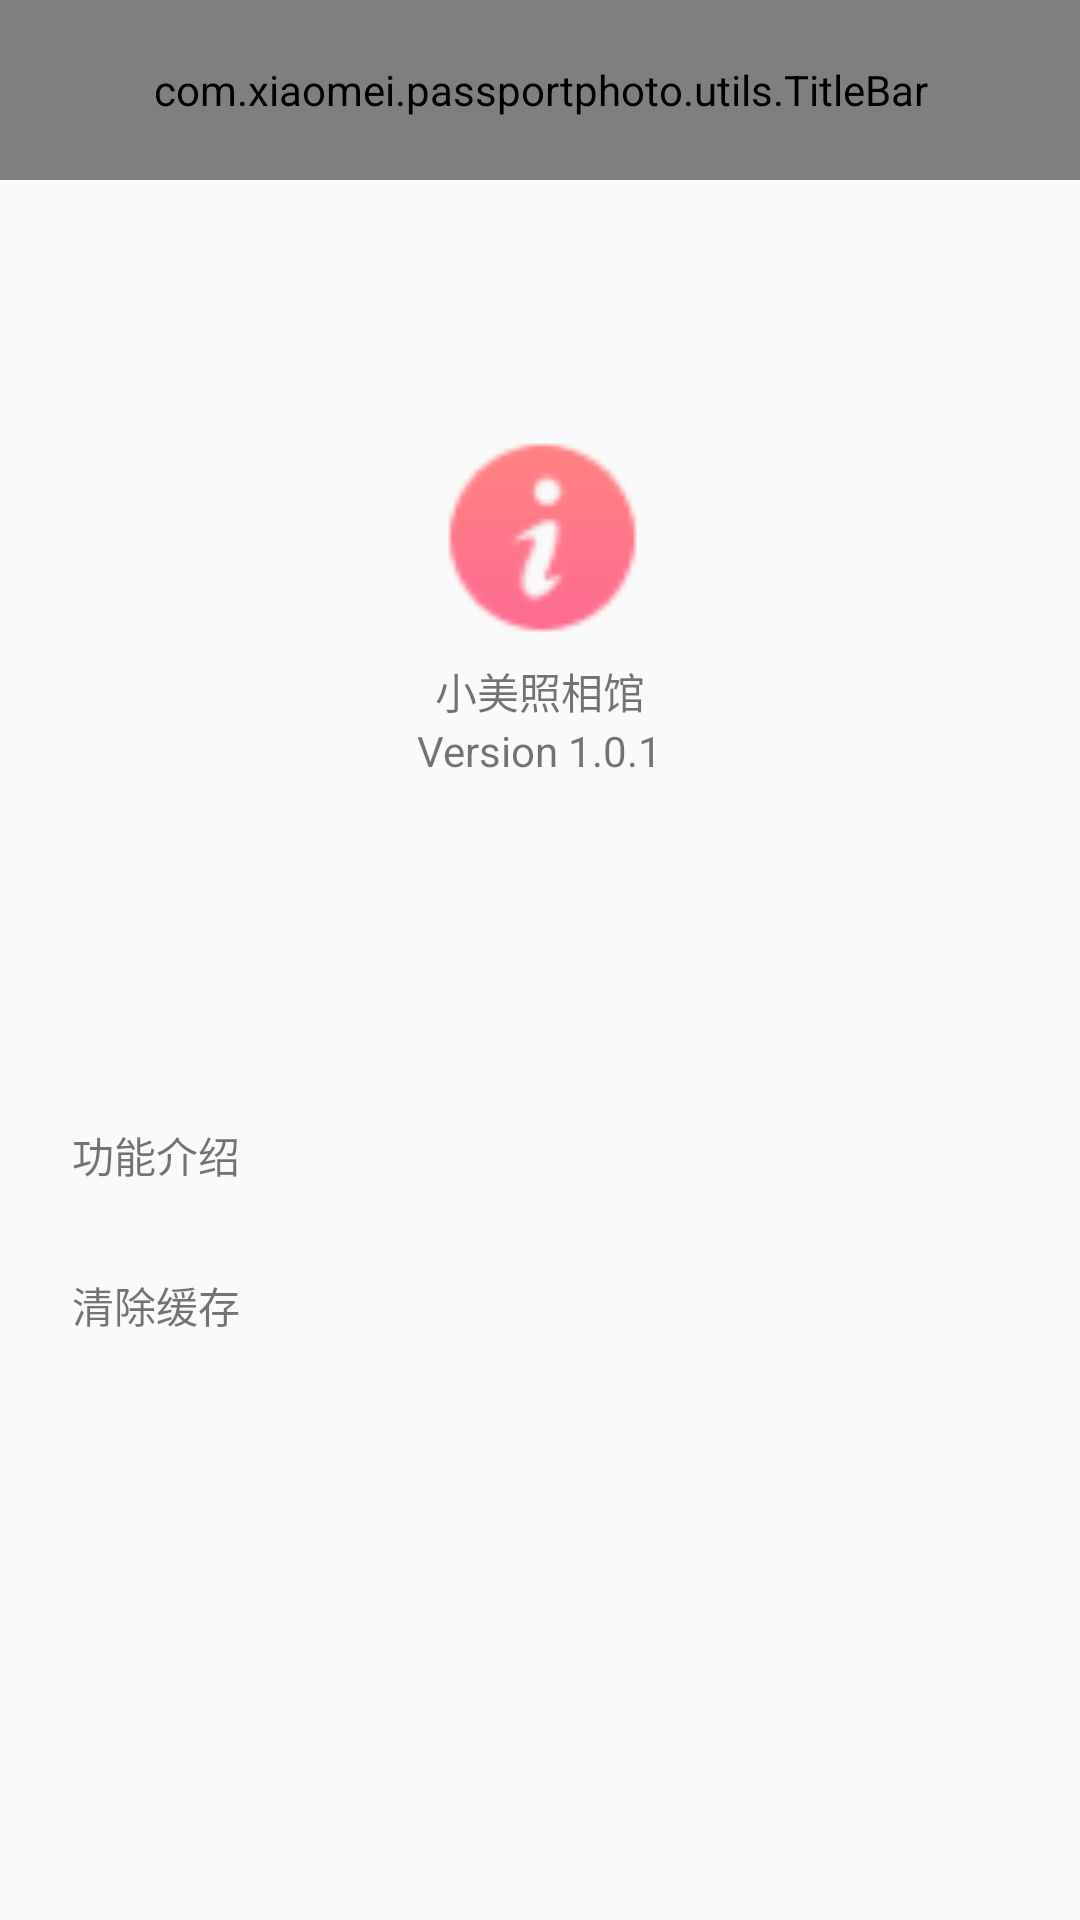

Screen size 1080px x 1920px. Icon name, then its box in pixels as (x1, y1, x2, y2):
account about: (448, 444, 637, 632)
